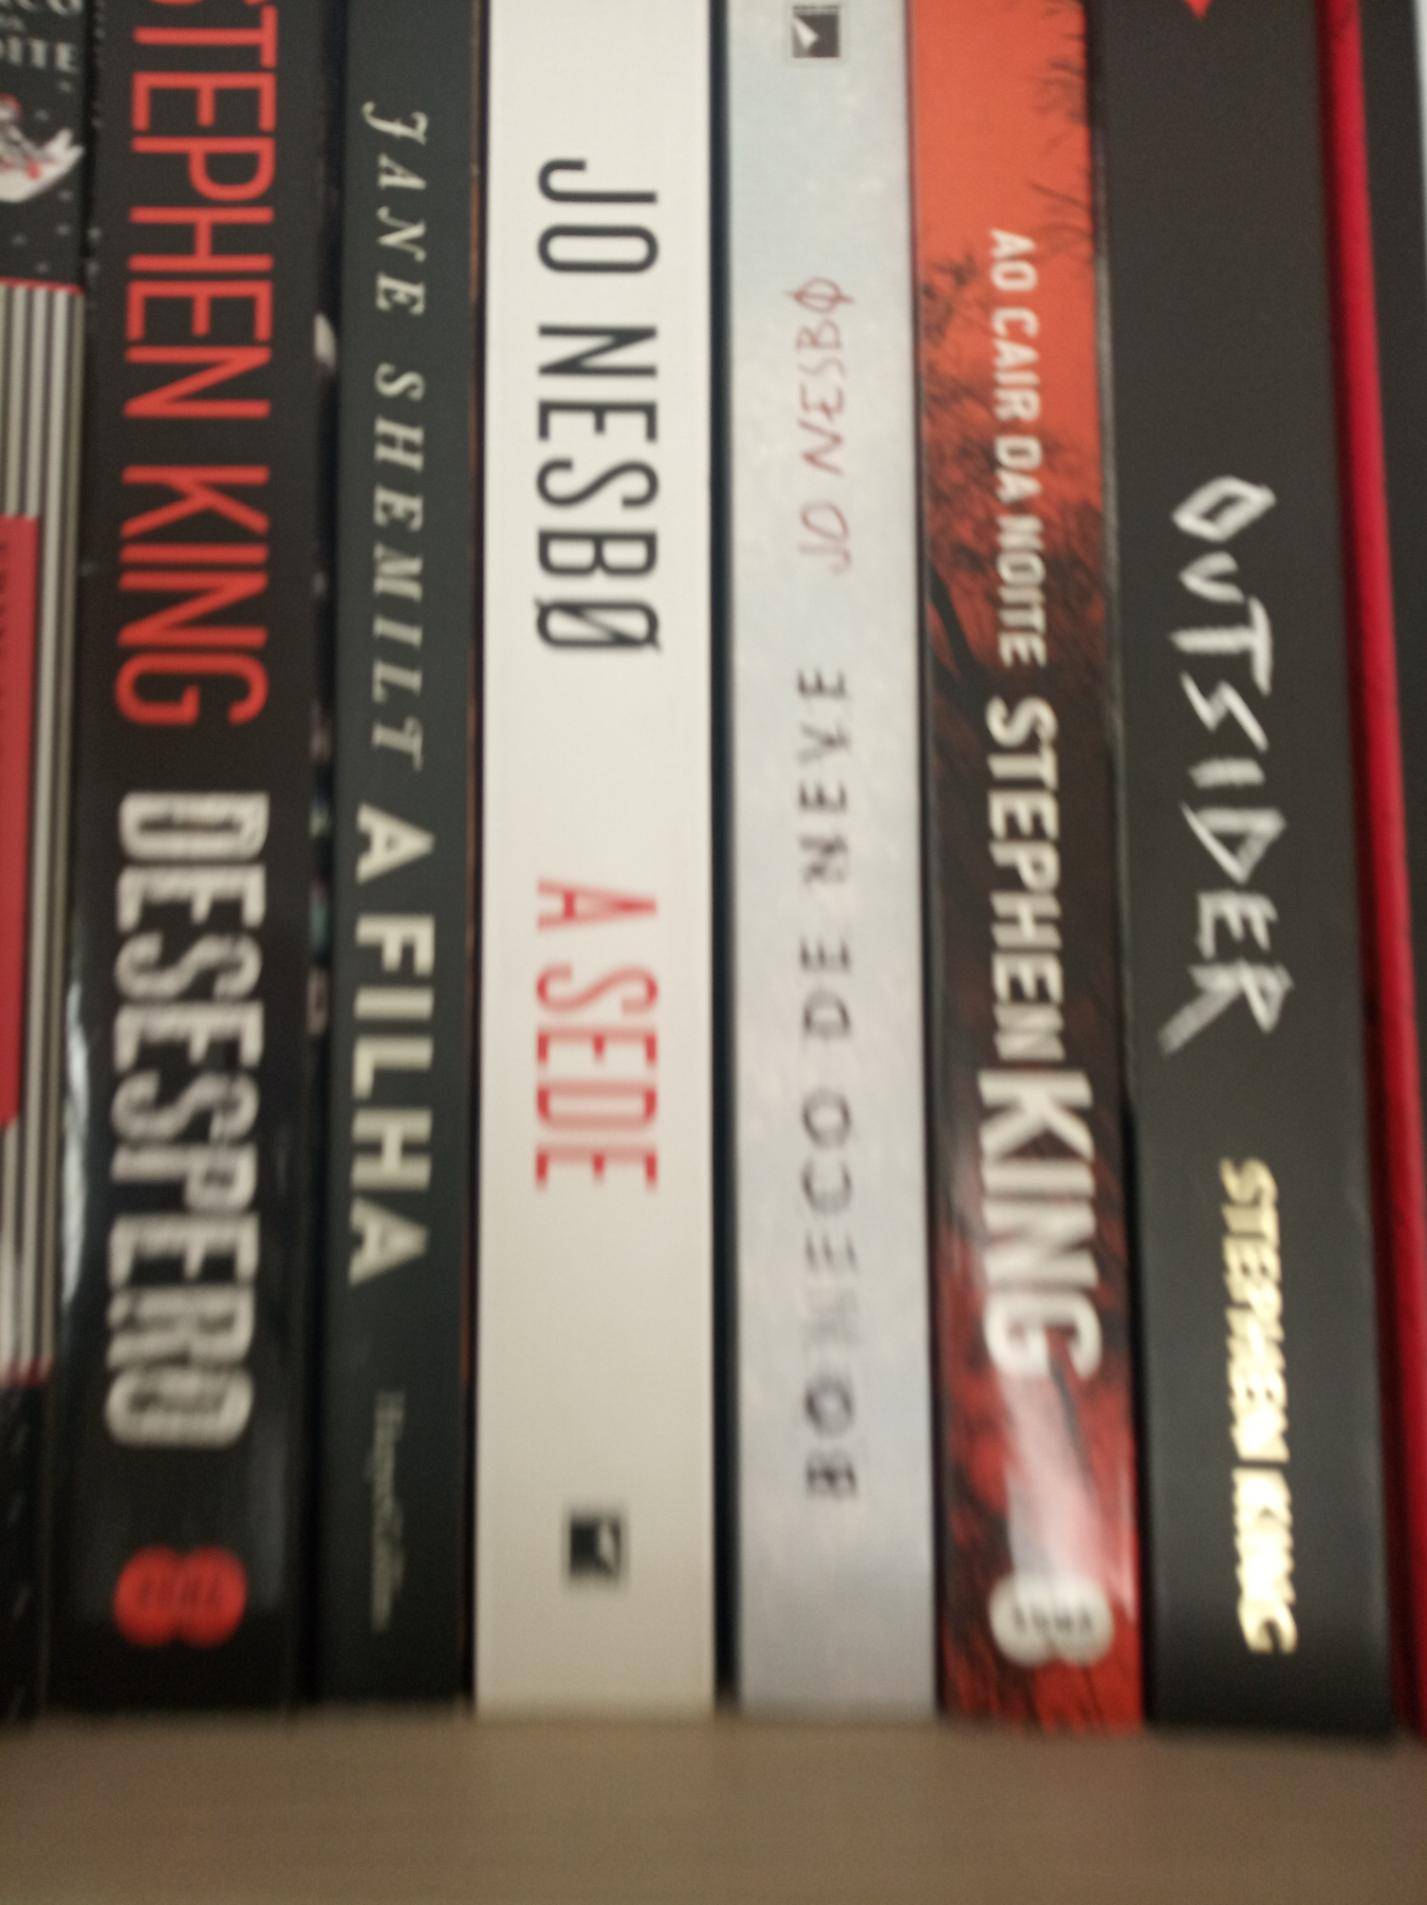book: (495, 6, 699, 1700), (79, 9, 280, 1683), (734, 12, 895, 1694), (324, 25, 466, 1685), (956, 31, 1096, 1701)
